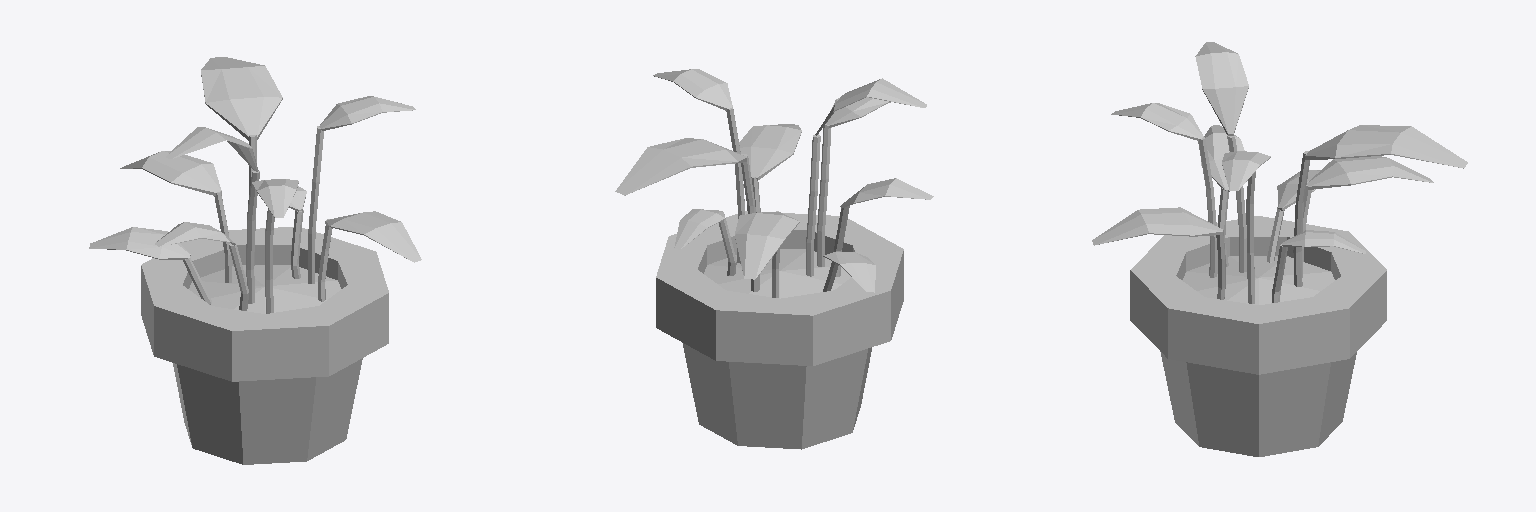
File: plant.obj
The picture shows the model from 3 angles: view 1: azimuth 30°, elevation 25°; view 2: azimuth 150°, elevation 25°; view 3: azimuth 270°, elevation 25°; orthographic projection.
Parts seen in each view (by area): view 1: pCylinder3, pCylinder24 polySurface4, pCylinder14 polySurface8, pCylinder15 polySurface16, pCylinder20 polySurface14, pCylinder16 polySurface12, pCylinder23 polySurface2, pCylinder17 polySurface6, polySurface11 pCylinder16, pCylinder22 polySurface18, polySurface1 pCylinder23, polySurface5 pCylinder17 (+4 smaller); view 2: pCylinder3, pCylinder24 polySurface4, pCylinder14 polySurface8, pCylinder15 polySurface16, pCylinder16 polySurface12, pCylinder23 polySurface2, pCylinder22 polySurface18, polySurface1 pCylinder23, polySurface5 pCylinder17, pCylinder20 polySurface14, pCube8, pCylinder17 polySurface6 (+2 smaller); view 3: pCylinder3, pCylinder24 polySurface4, pCylinder23 polySurface2, pCylinder15 polySurface16, pCylinder14 polySurface8, pCylinder17 polySurface6, pCylinder16 polySurface12, pCylinder22 polySurface18, polySurface5 pCylinder17, pCube8, polySurface3 pCylinder24, polySurface11 pCylinder16 (+2 smaller).
Part boxes in pixels (x1,y1,x2,y2): pCylinder3: (141, 227, 388, 464); pCylinder24 polySurface4: (201, 57, 282, 140); pCylinder14 polySurface8: (120, 151, 221, 195); pCylinder15 polySurface16: (325, 211, 421, 262); pCylinder20 polySurface14: (89, 227, 190, 259); pCylinder16 polySurface12: (319, 96, 415, 130); pCylinder23 polySurface2: (166, 127, 258, 171); pCylinder17 polySurface6: (252, 179, 298, 217); polySurface11 pCylinder16: (308, 126, 323, 283); pCylinder22 polySurface18: (155, 222, 235, 246); polySurface1 pCylinder23: (246, 171, 259, 303); polySurface5 pCylinder17: (265, 209, 274, 313); pCylinder3: (656, 211, 903, 449); pCylinder24 polySurface4: (615, 138, 746, 195); pCylinder14 polySurface8: (735, 212, 799, 279); pCylinder15 polySurface16: (739, 124, 801, 180); pCylinder16 polySurface12: (653, 69, 732, 110); pCylinder23 polySurface2: (815, 78, 926, 135); pCylinder22 polySurface18: (840, 178, 933, 208); polySurface1 pCylinder23: (806, 134, 820, 276); polySurface5 pCylinder17: (817, 124, 831, 266); pCylinder20 polySurface14: (823, 252, 875, 292); pCube8: (674, 209, 725, 249); pCylinder17 polySurface6: (826, 97, 890, 127); pCylinder3: (1130, 216, 1386, 456); pCylinder24 polySurface4: (1305, 125, 1467, 168); pCylinder23 polySurface2: (1195, 42, 1248, 135); pCylinder15 polySurface16: (1092, 207, 1221, 245); pCylinder14 polySurface8: (1307, 156, 1433, 189); pCylinder17 polySurface6: (1111, 103, 1203, 140); pCylinder16 polySurface12: (1222, 151, 1270, 190); pCylinder22 polySurface18: (1201, 125, 1244, 191); polySurface5 pCylinder17: (1198, 137, 1217, 277); pCube8: (1282, 230, 1365, 253); polySurface3 pCylinder24: (1293, 151, 1309, 286); polySurface11 pCylinder16: (1246, 172, 1255, 303).
Size of the model in its own units: 3.77 by 4.39 by 4.49.